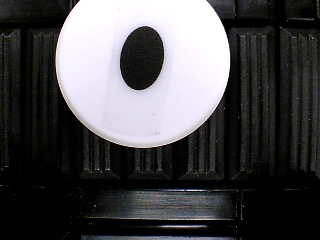BOHOEL: (54, 1, 231, 148)
